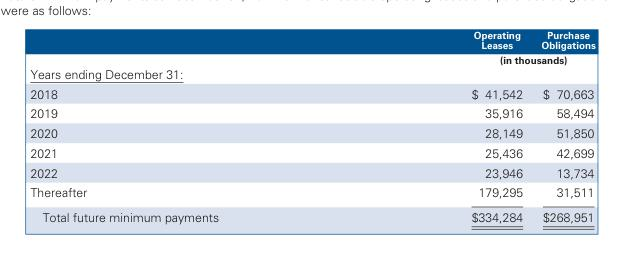table: (29, 29, 594, 224)
table column: (29, 29, 344, 224), (344, 29, 531, 224), (531, 29, 594, 224)
table column header: (29, 29, 594, 65)
table projected row header: (29, 65, 594, 83)
table row: (29, 29, 594, 52), (29, 182, 594, 204), (29, 83, 594, 103), (29, 122, 594, 142), (29, 142, 594, 162), (29, 162, 594, 182), (29, 204, 594, 224), (29, 103, 594, 122), (29, 65, 594, 83), (29, 52, 594, 65)
table spanning cell: (344, 52, 594, 65)
